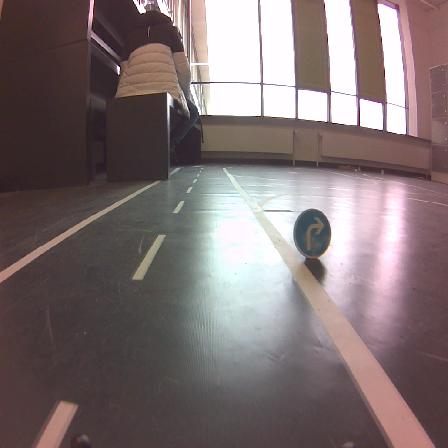RIGHT_TURN: (294, 208, 331, 259)
